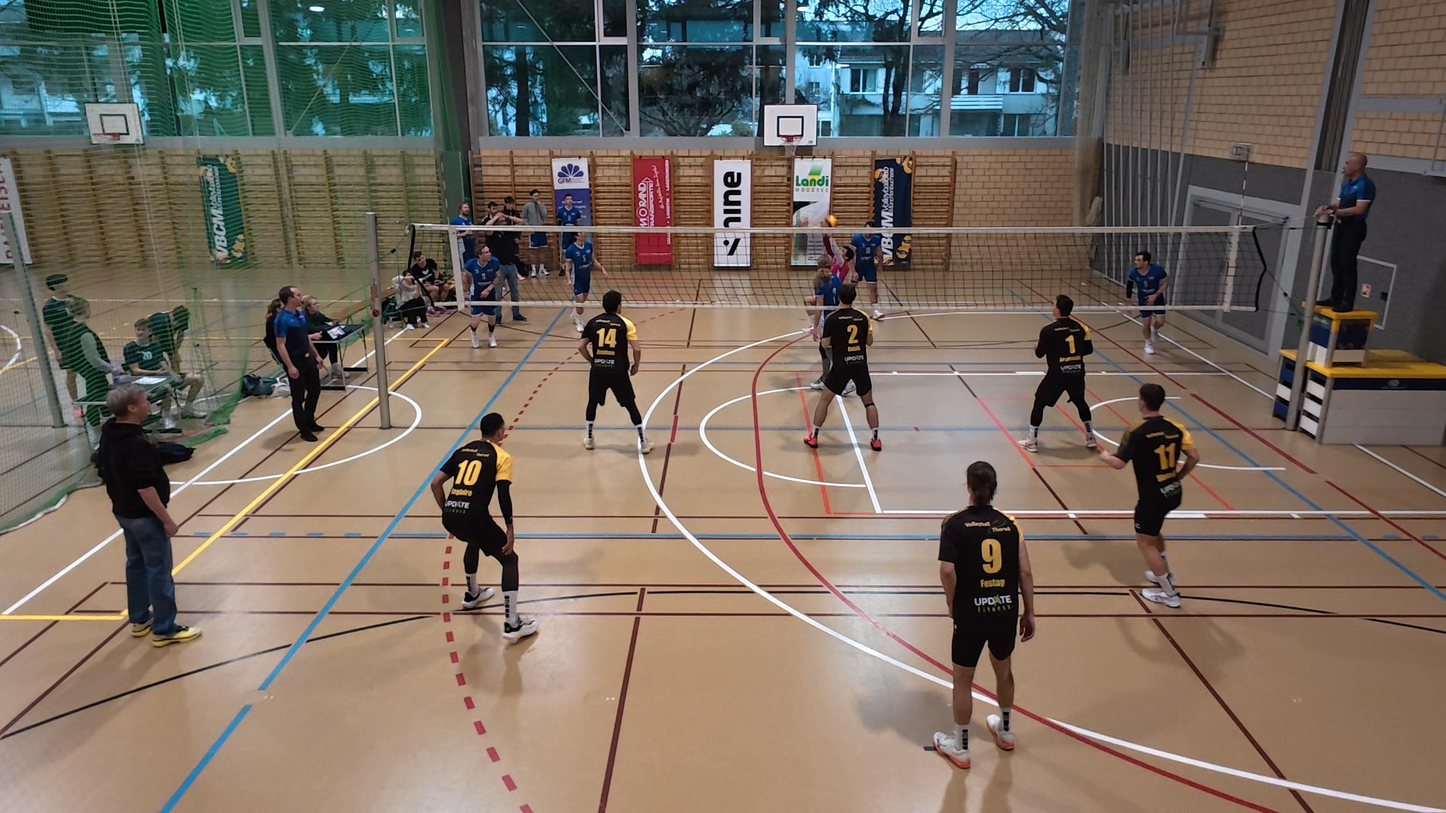Player: (933, 461, 1035, 766), (430, 412, 537, 644), (1102, 384, 1200, 608), (804, 283, 881, 451), (578, 290, 653, 454), (1023, 294, 1101, 451), (467, 242, 514, 350), (1125, 250, 1171, 354), (563, 231, 606, 334), (846, 219, 889, 318)
Set: (818, 229, 861, 296)
ball: (824, 212, 841, 228)
